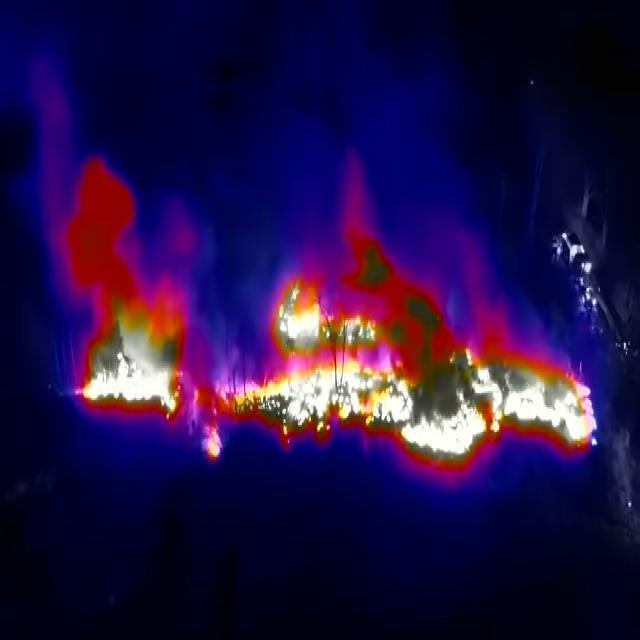fire: (194, 274, 600, 475), (63, 264, 188, 420)
